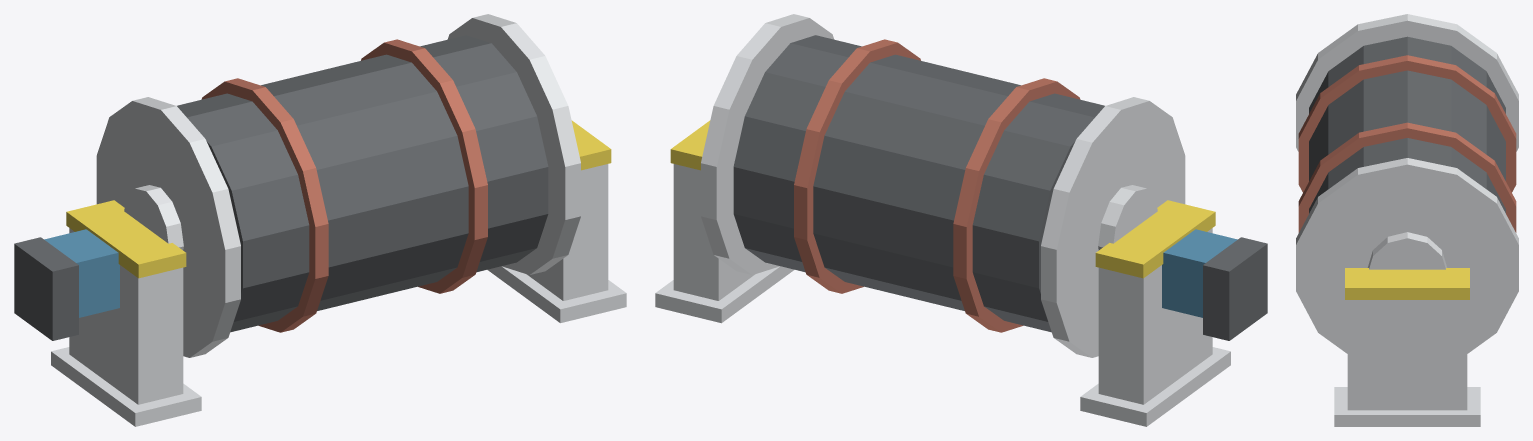
The model's file is fish-market-and-trawler-quay-fish-market-and-trawler-q-034abfb2__37259.glb.
3 renders of one model, left to right at view 1: azimuth 30°, elevation 25°; view 2: azimuth 150°, elevation 25°; view 3: azimuth 270°, elevation 25°, orthographic. The views are drawn at different scales.
Parts seen in each view (by area): view 1: net-drum/charcoal, fish-market-and-trawler-quay-net-drum, net-drum/steel (×3), net-drum/oxide (×2); view 2: net-drum/charcoal, fish-market-and-trawler-quay-net-drum, net-drum/steel (×3), net-drum/oxide (×2); view 3: net-drum/steel (×3), fish-market-and-trawler-quay-net-drum, net-drum/charcoal, net-drum/oxide (×2).
Part boxes in pixels (<box>): net-drum/charcoal: <box>177,35,548,332</box>; fish-market-and-trawler-quay-net-drum: <box>14,120,626,426</box>; net-drum/steel (×3): <box>96,14,580,357</box>; net-drum/oxide (×2): <box>201,39,487,332</box>; net-drum/charcoal: <box>733,35,1104,332</box>; fish-market-and-trawler-quay-net-drum: <box>655,120,1267,426</box>; net-drum/steel (×3): <box>701,14,1185,357</box>; net-drum/oxide (×2): <box>794,39,1080,332</box>; net-drum/steel (×3): <box>1296,14,1518,353</box>; fish-market-and-trawler-quay-net-drum: <box>1334,268,1480,426</box>; net-drum/charcoal: <box>1309,36,1505,213</box>; net-drum/oxide (×2): <box>1298,55,1516,232</box>.
Bounding box in the file's own units: 4.15 × 1.94 × 1.68.
